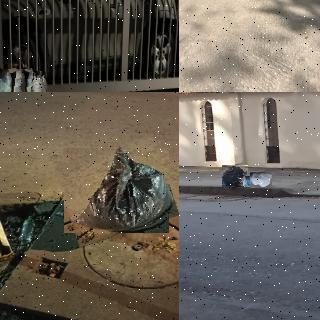Garbage: (59, 141, 174, 240), (221, 164, 249, 189), (5, 69, 32, 92), (28, 70, 50, 92), (251, 172, 273, 188), (0, 68, 14, 92), (244, 176, 254, 187)
